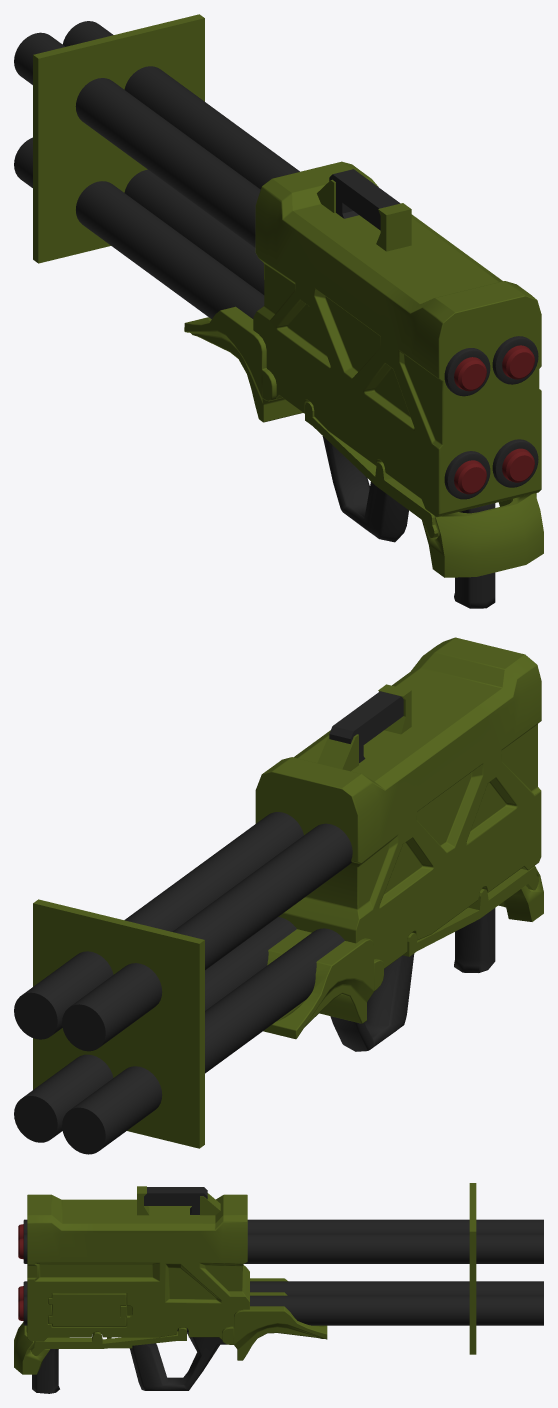
File: SM_Launcher.fbx
3 renders of one model, top to bottom at view 1: azimuth 30°, elevation 25°; view 2: azimuth 150°, elevation 25°; view 3: azimuth 270°, elevation 25°, orthographic. The views are drawn at different scales.
Visible parts, largest first — view 1: Cube.038; view 2: Cube.038; view 3: Cube.038.
Part boxes in pixels (x1,y1,x2,y2): Cube.038: [14, 14, 543, 608]; Cube.038: [14, 637, 543, 1154]; Cube.038: [14, 1183, 543, 1393].
Size of the model in its own units: 23.8 by 45.53 by 109.
